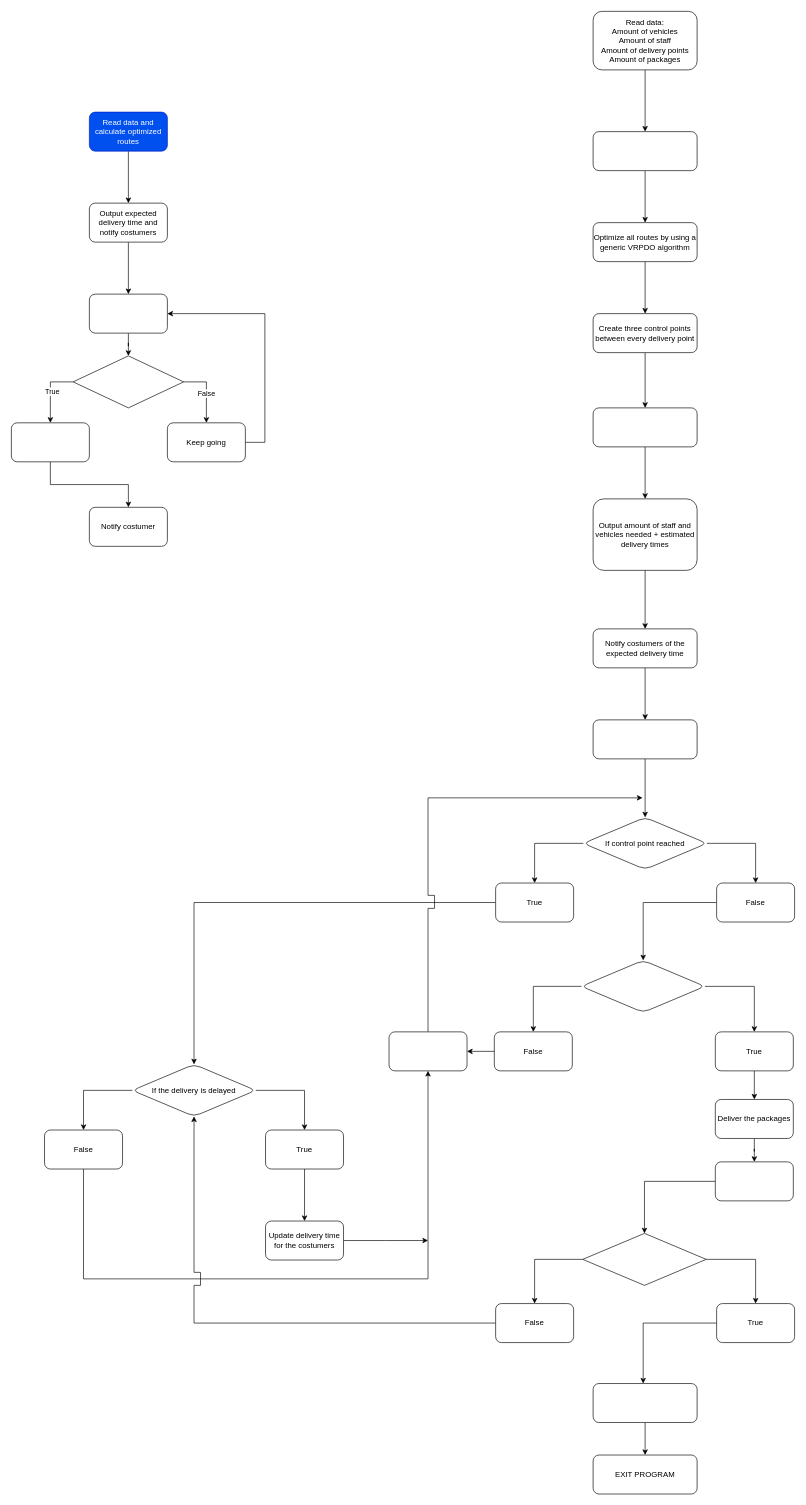
Some shapes in this 806 by 1505 pixel diagram are drawn without their labels. Here are the shapes that lost their labels. From the top down, the centre of each, then its label:
At [644,151]: "Calculate the amount of routes based on chauffeurs and vehicles".
At [128,313]: "Go to delivery point".
At [128,381]: "If destination reached".
At [50,442]: "Deliver package".
At [644,427]: "Calculate the amount of time the delivery will take".
At [644,739]: "Go to next delivery point".
At [643,986]: "If delivery point is reached".
At [427,1051]: "Keep driving".
At [754,1181]: "Notify the costumer of the delivery".
At [644,1259]: "If last delivery point is reached".
At [644,1403]: "Drive to package terminal".
